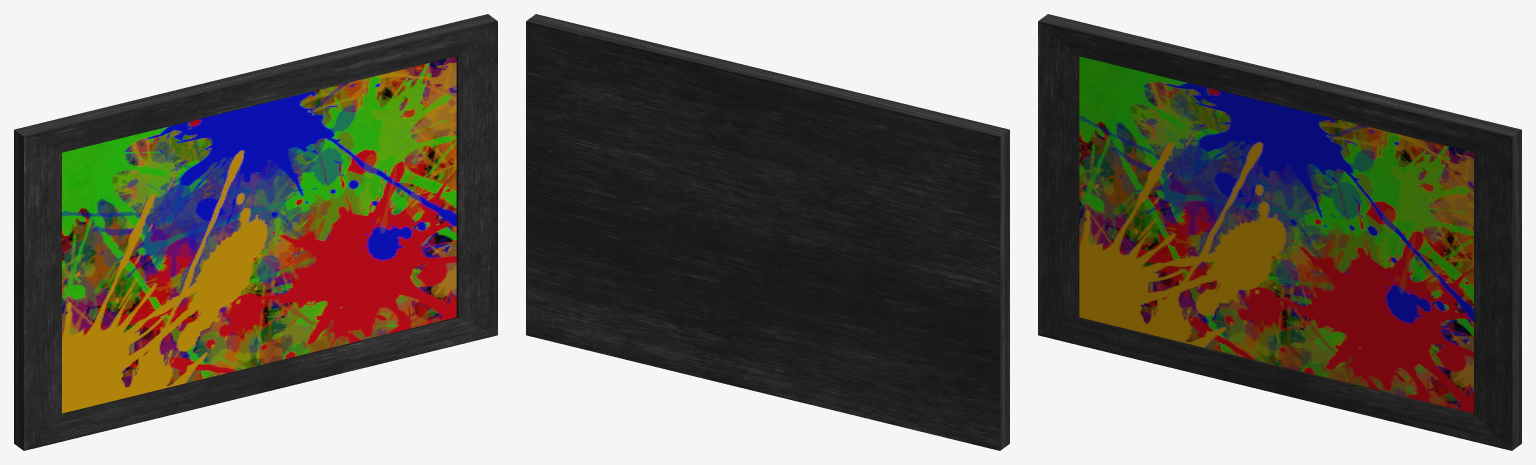
Rendered from painting_landscape_6.fbx.
3 views of the same model, side by side, from view 1: azimuth 30°, elevation 25°; view 2: azimuth 150°, elevation 25°; view 3: azimuth 330°, elevation 25° (orthographic).
Parts seen in each view (by area): view 1: painting_Var8.002; view 2: painting_Var8.002; view 3: painting_Var8.002.
Part boxes in pixels (left/top/right/bottom): painting_Var8.002: left=14, top=14, right=497, bottom=450; painting_Var8.002: left=526, top=14, right=1009, bottom=450; painting_Var8.002: left=1038, top=14, right=1521, bottom=450.
Size of the model in its own units: 113 by 71.52 by 4.11.
Materials: 1 (1 with a texture image).
